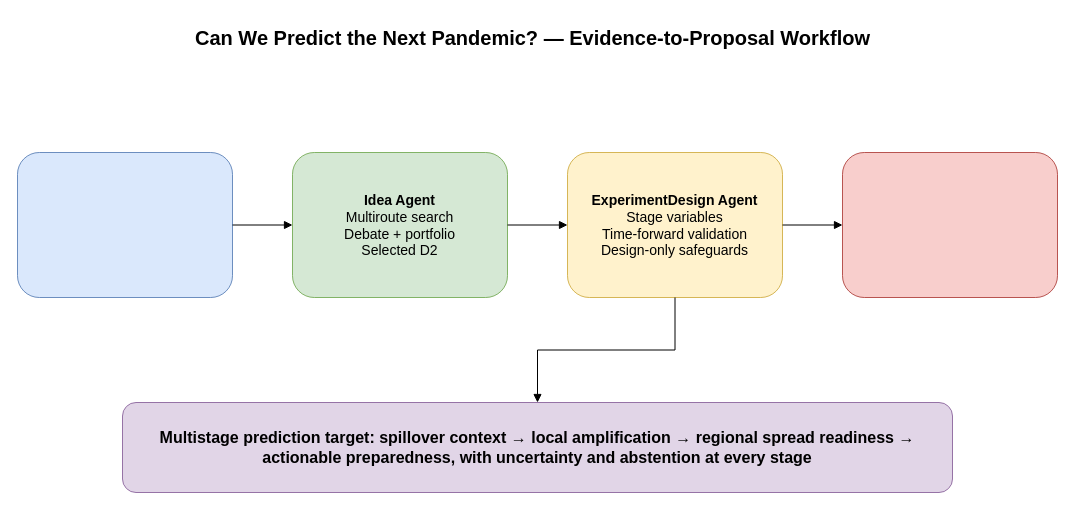
Some shapes in this 1075 by 510 pixel diagram are drawn without their labels. Each missing label, with the centre of its shape:
"Author Agent Source-bound IEEE report No observed results Human review" belongs at point 950,225.
"Survey Agent Evidence map Gap ledger Claim boundaries" belongs at point 124,225.
